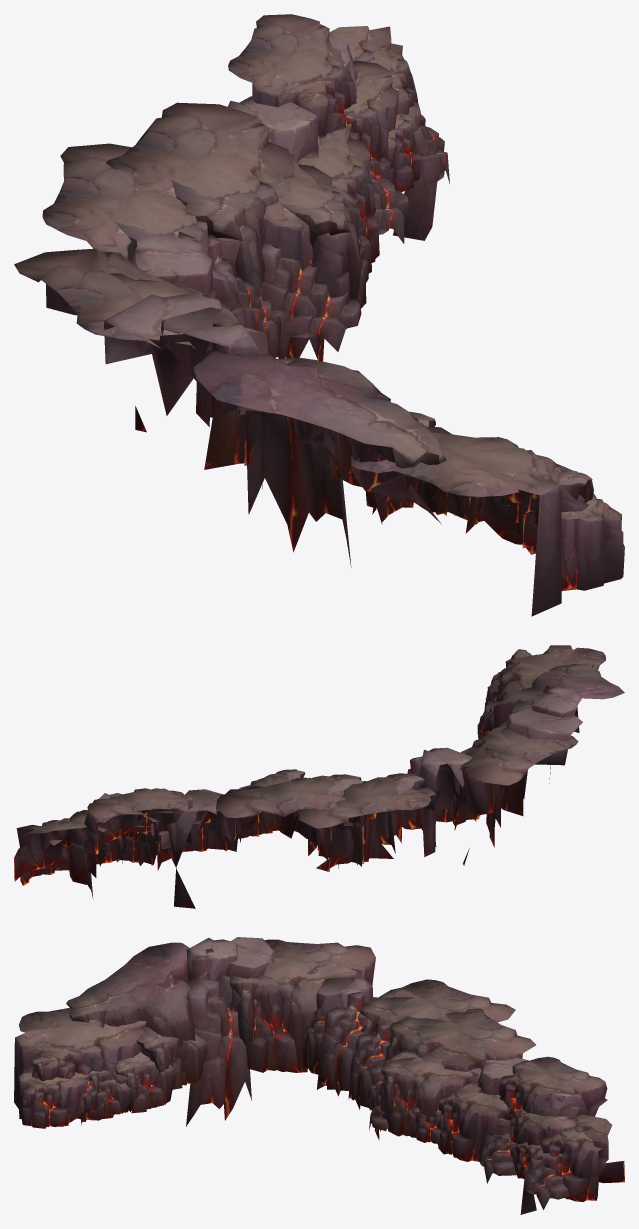
Rendered from yanshi19_1.fbx.
The picture shows the model from 3 angles, top to bottom: view 1: azimuth 30°, elevation 25°; view 2: azimuth 150°, elevation 25°; view 3: azimuth 270°, elevation 25°; orthographic projection. The views are drawn at different scales.
Visible parts, largest first — view 1: yanshi19_1; view 2: yanshi19_1; view 3: yanshi19_1.
Boxes of the visible parts, x1,y1,x2,y2 form: yanshi19_1: (14, 14, 624, 616); yanshi19_1: (14, 645, 624, 908); yanshi19_1: (14, 937, 624, 1214).
Size of the model in its own units: 8779 by 3585 by 13368.
